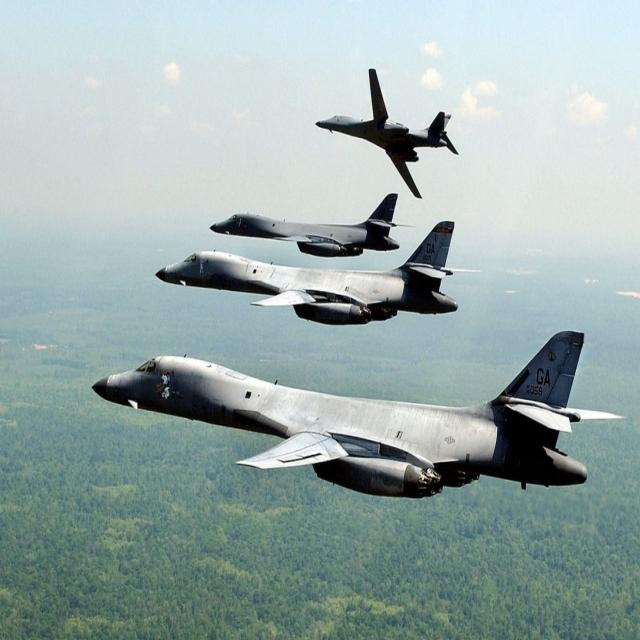MIL_Plane: (90, 362, 627, 468), (154, 214, 482, 319), (212, 192, 413, 258), (350, 35, 424, 104)
